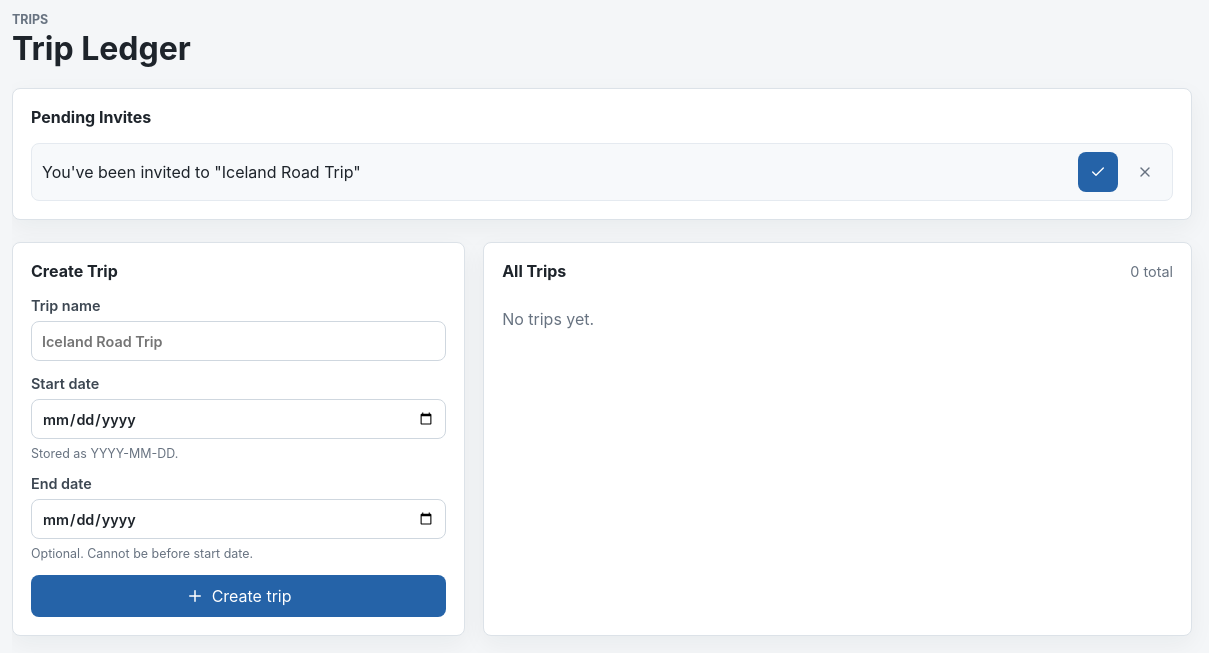
TripsPage pending invitations › declining an invite removes it from the list without reloading trips
Check: the text "You've been invited to \"Iceland Road Trip\"" is shown, box [42,162,361,182]
Click the button named "decline invite" at (1145, 172), box [1128,155,1162,189]
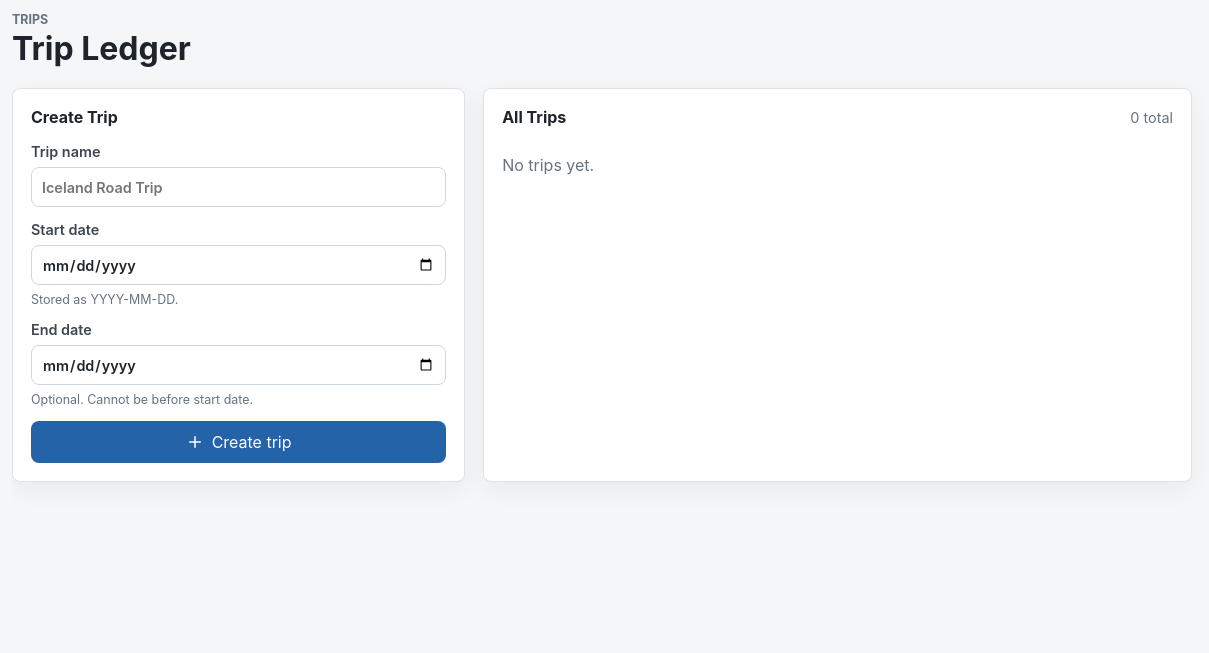
Check: the text "You've been invited to \"Iceland Road Trip\"" is gone
